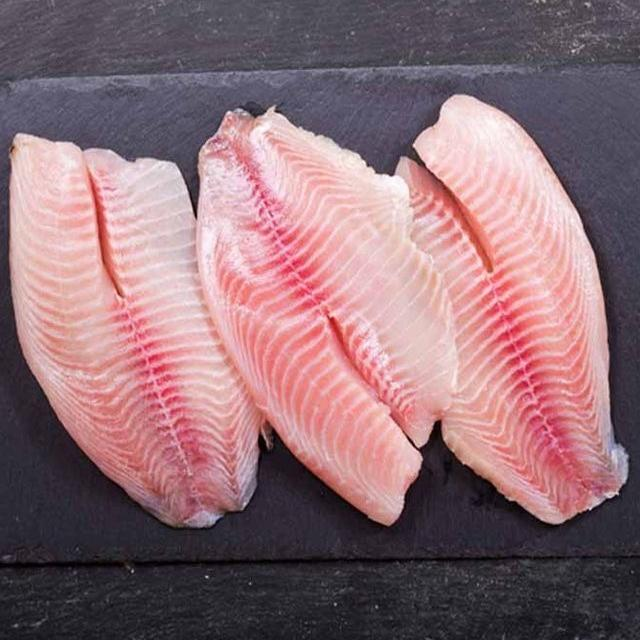fish: (174, 98, 480, 536), (372, 73, 640, 530), (0, 111, 279, 537)
